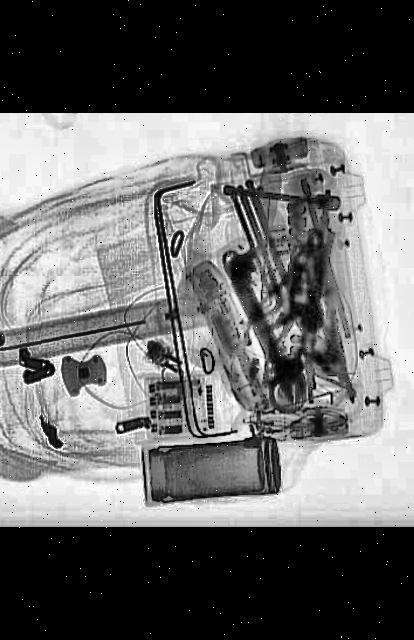Wrench: (216, 250, 314, 404)
